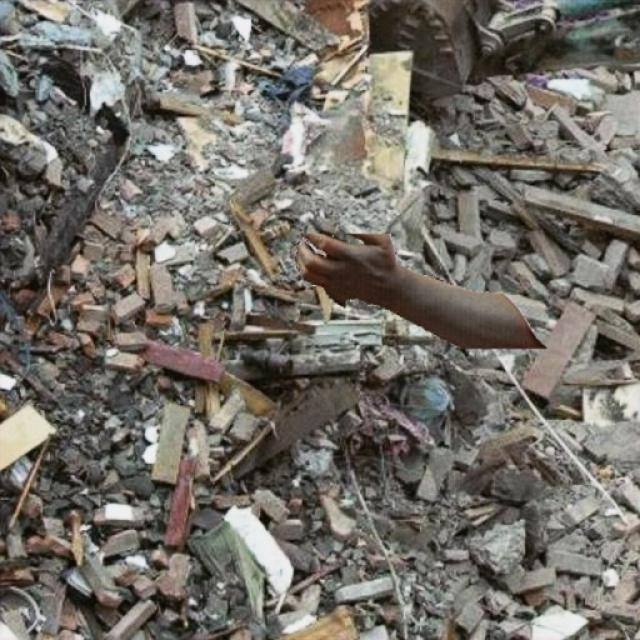Person in Rubble: (295, 234, 546, 348)
